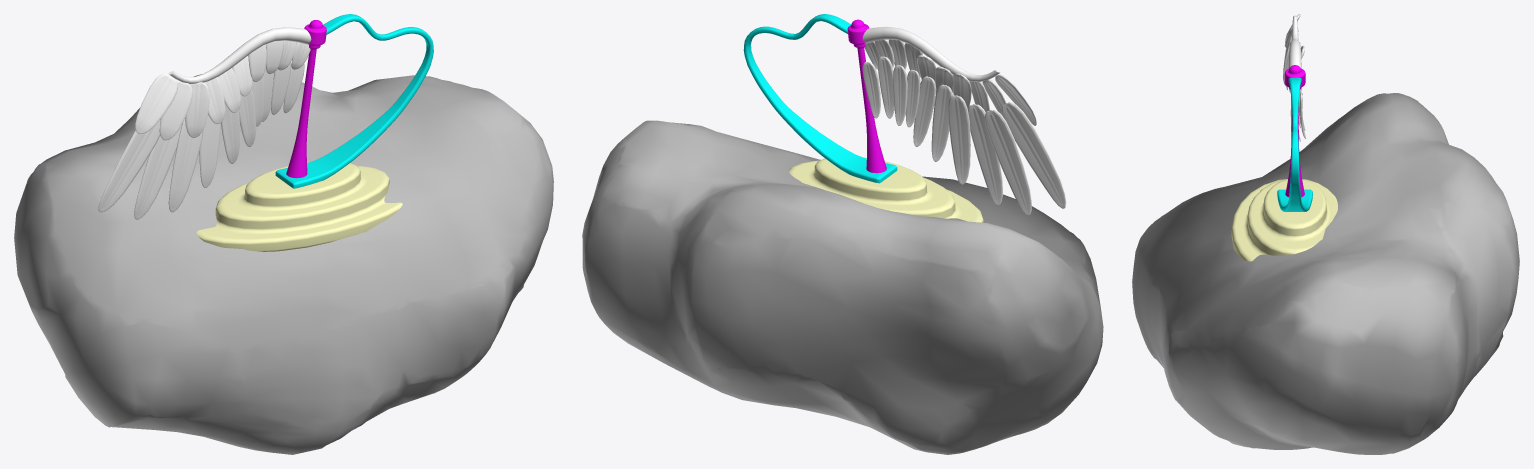
Rendered from harp-group.fbx.
3 views of the same model, side by side, from view 1: azimuth 30°, elevation 25°; view 2: azimuth 150°, elevation 25°; view 3: azimuth 270°, elevation 25° (orthographic). The views are drawn at different scales.
Visible parts, largest first — view 1: harp_cloud, harp; view 2: harp_cloud, harp; view 3: harp_cloud, harp.
Part boxes in pixels (x1,y1,x2,y2): harp_cloud: (14, 72, 553, 454); harp: (98, 14, 433, 251); harp_cloud: (582, 120, 1103, 454); harp: (743, 14, 1066, 222); harp_cloud: (1132, 93, 1519, 454); harp: (1231, 14, 1337, 261).
Bounding box in the file's own units: 387 × 300 × 283.
